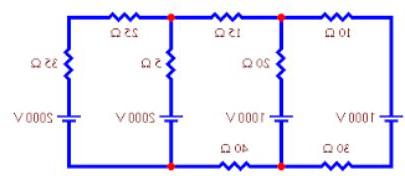Battery: (154, 99, 193, 133)
